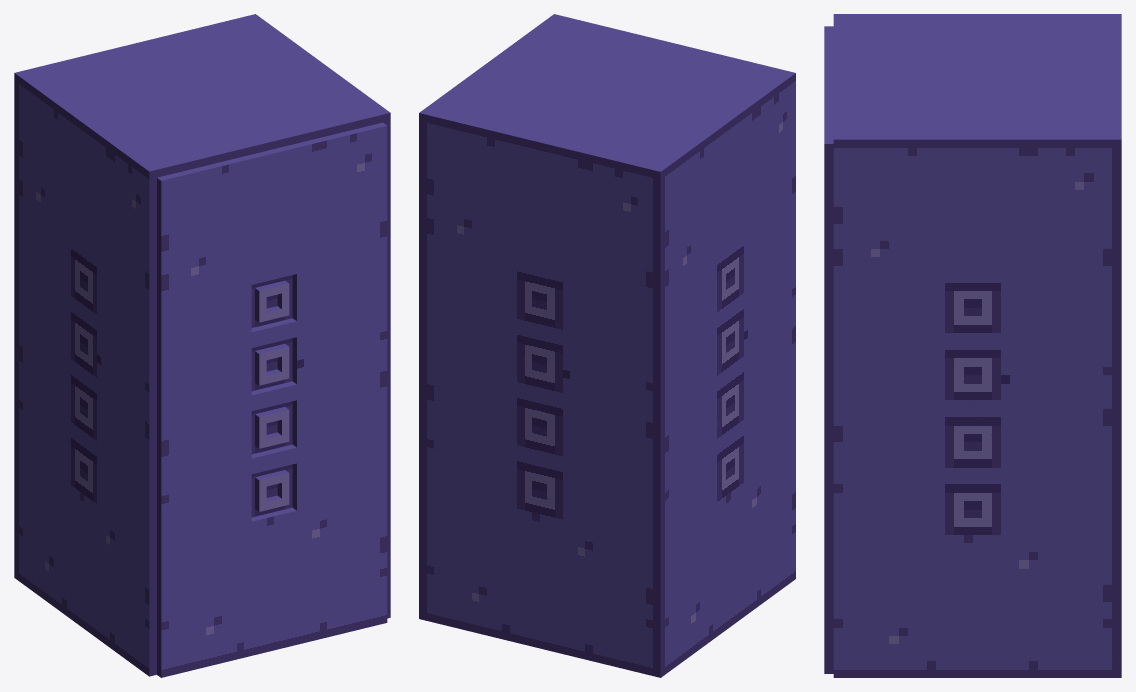
Rendered from 4_bit_doorao.fezao.glb.
3 renders of one model, left to right at view 1: azimuth 30°, elevation 25°; view 2: azimuth 150°, elevation 25°; view 3: azimuth 270°, elevation 25°, orthographic. The views are drawn at different scales.
Visible parts, largest first — view 1: 4_BIT_DOORAO; view 2: 4_BIT_DOORAO; view 3: 4_BIT_DOORAO.
Boxes of the visible parts, bbox=[...] form: 4_BIT_DOORAO: bbox=[14, 14, 390, 677]; 4_BIT_DOORAO: bbox=[419, 14, 795, 677]; 4_BIT_DOORAO: bbox=[824, 14, 1121, 677].
Bounding box in the file's own units: 2 × 4 × 2.
Materials: 1 (1 with a texture image).
